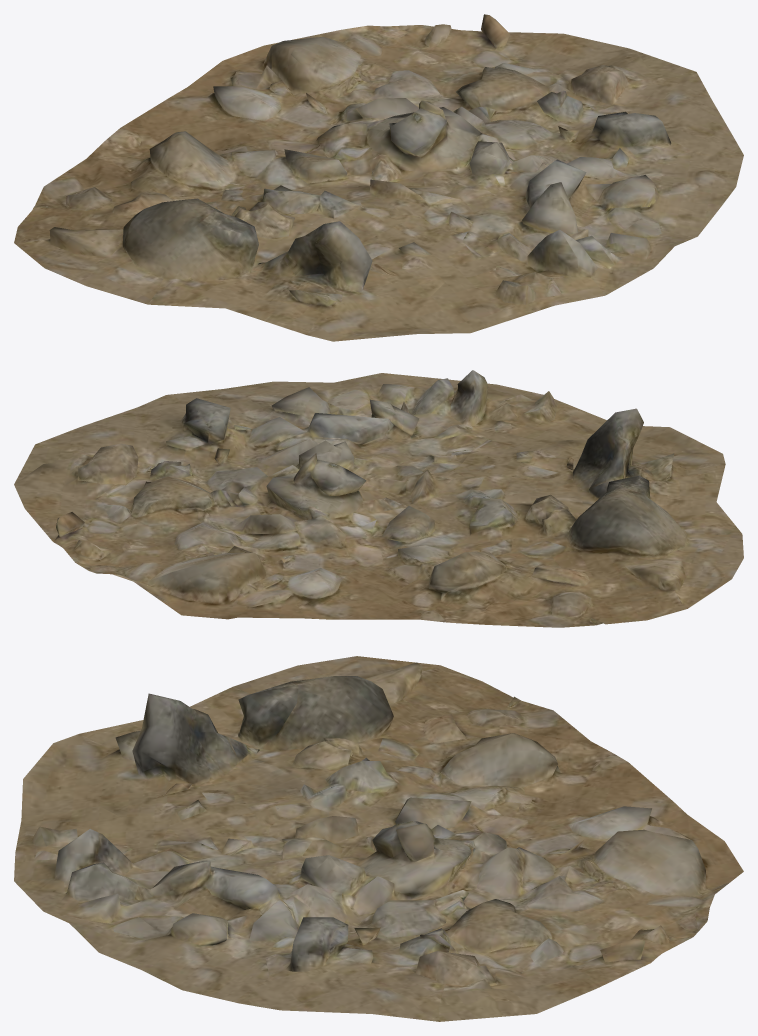
3 renders of one model, top to bottom at view 1: azimuth 30°, elevation 25°; view 2: azimuth 150°, elevation 25°; view 3: azimuth 270°, elevation 25°, orthographic. The views are drawn at different scales.
Visible parts, largest first — view 1: sand_rocks_small_01_lod1; view 2: sand_rocks_small_01_lod1; view 3: sand_rocks_small_01_lod1.
Part boxes in pixels (<box>): sand_rocks_small_01_lod1: <box>14,14,743,341</box>; sand_rocks_small_01_lod1: <box>14,370,743,627</box>; sand_rocks_small_01_lod1: <box>14,656,743,1021</box>.
Bounding box in the file's own units: 4.59 × 0.5027 × 3.87.
Materials: 1 (1 with a texture image).
